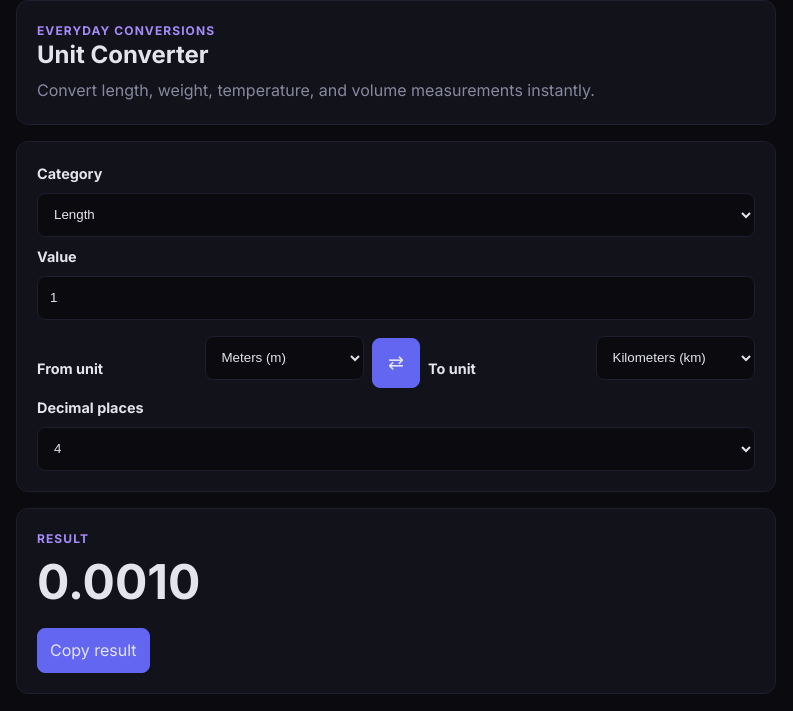
Test: UnitConverterTool › converts input values in real time
Step 1. Replace the text in the field named "Value to convert" with "2.5" → (396, 298), box [37,276,755,320]
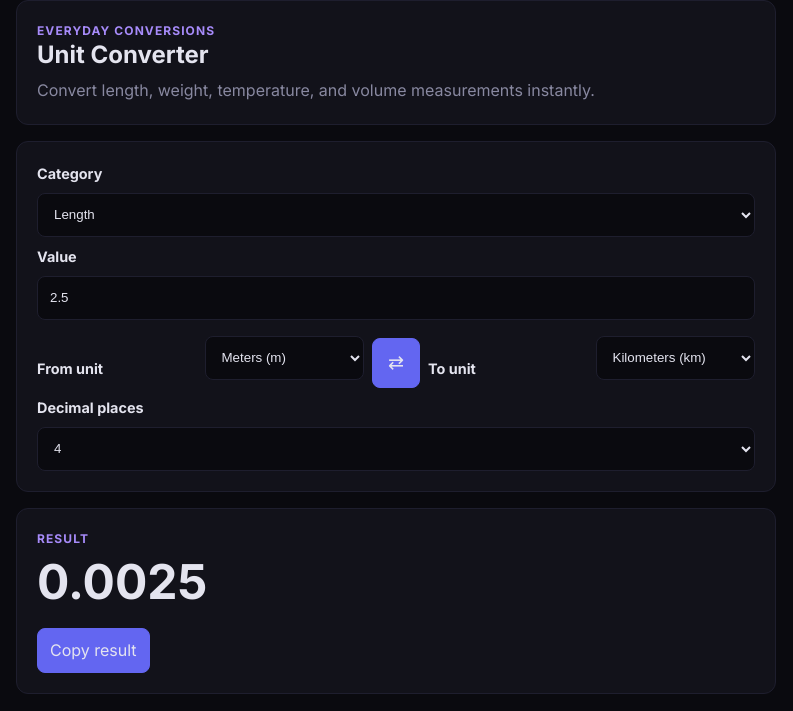
Now the heading "0.0025" is shown, box [37,552,207,611]
